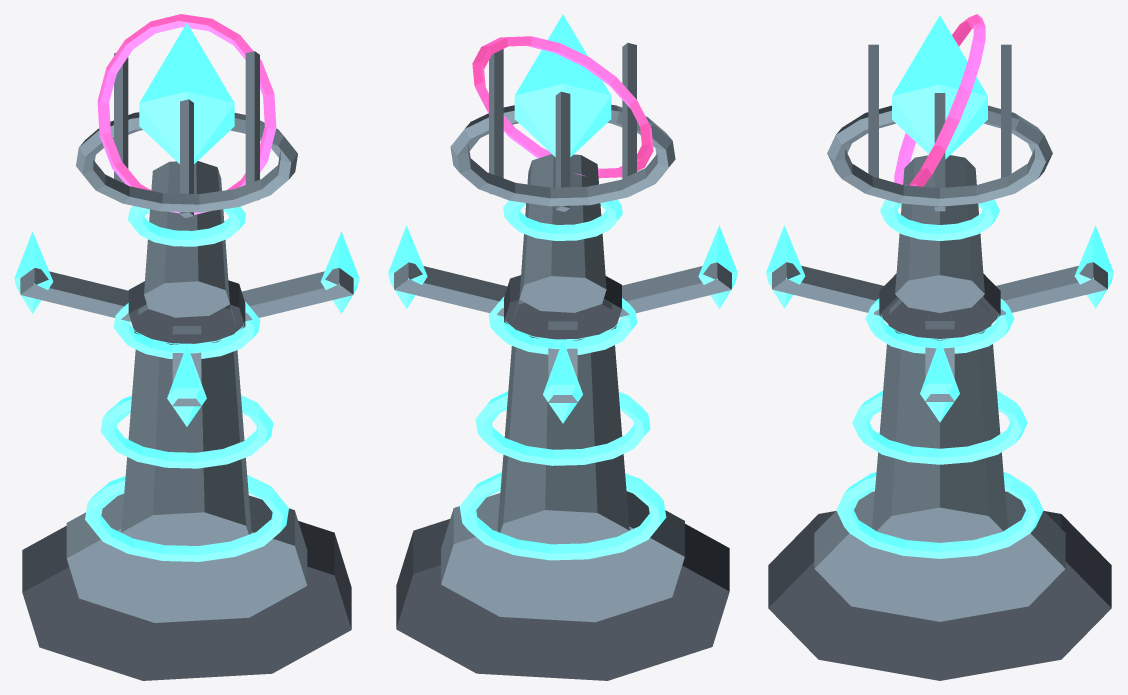
File: stabilizer_pylon.gltf
The picture shows the model from 3 angles, left to right: view 1: azimuth 30°, elevation 25°; view 2: azimuth 150°, elevation 25°; view 3: azimuth 270°, elevation 25°; orthographic projection.
Parts seen in each view (by area): view 1: StabilizerPylon_root; view 2: StabilizerPylon_root; view 3: StabilizerPylon_root.
Boxes of the visible parts, x1=… form: StabilizerPylon_root: x1=14, y1=14, x2=359, y2=680; StabilizerPylon_root: x1=388, y1=14, x2=737, y2=680; StabilizerPylon_root: x1=766, y1=14, x2=1113, y2=680.
Bounding box in the file's own units: 2.82 × 4.95 × 2.63.
